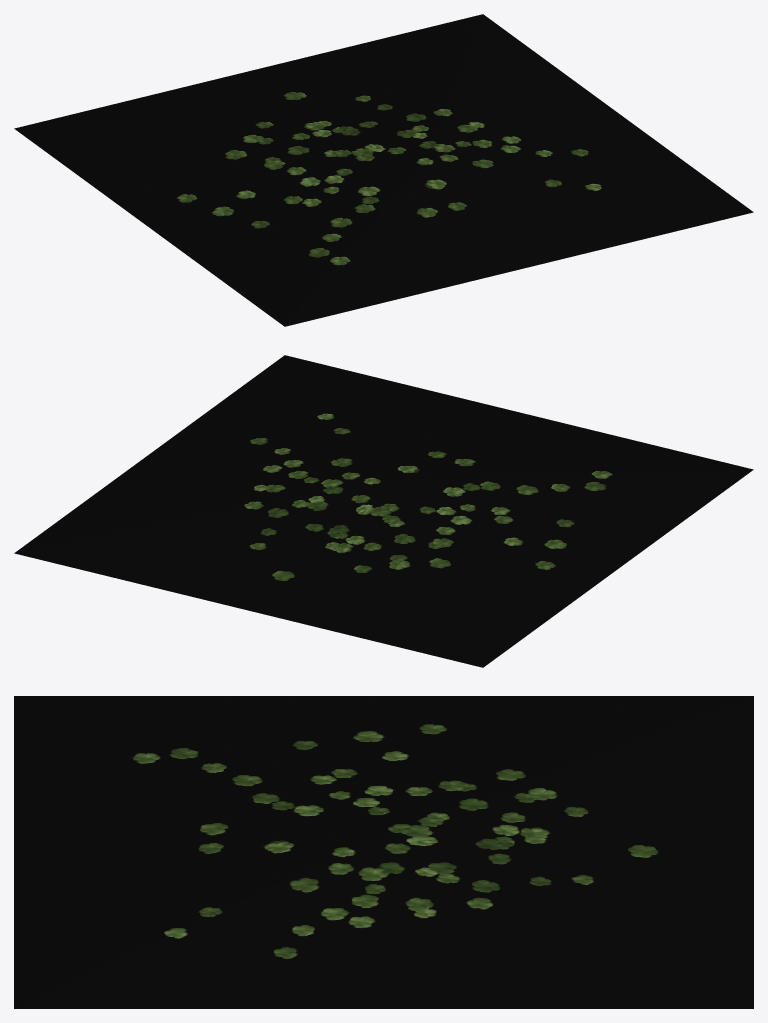
The model's file is clover2.glb.
The picture shows the model from 3 angles, top to bottom: view 1: azimuth 30°, elevation 25°; view 2: azimuth 150°, elevation 25°; view 3: azimuth 270°, elevation 25°; orthographic projection. The views are drawn at different scales.
Visible parts, largest first — view 1: Clover-02; view 2: Clover-02; view 3: Clover-02.
Part boxes in pixels (<box>): Clover-02: <box>14,14,753,326</box>; Clover-02: <box>14,355,753,667</box>; Clover-02: <box>14,696,753,1008</box>.
Size of the model in its own units: 1.61 by 0.044 by 1.61.
Materials: 1 (1 with a texture image).
